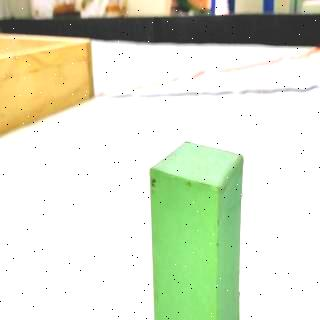greenbox: (146, 138, 245, 320)
